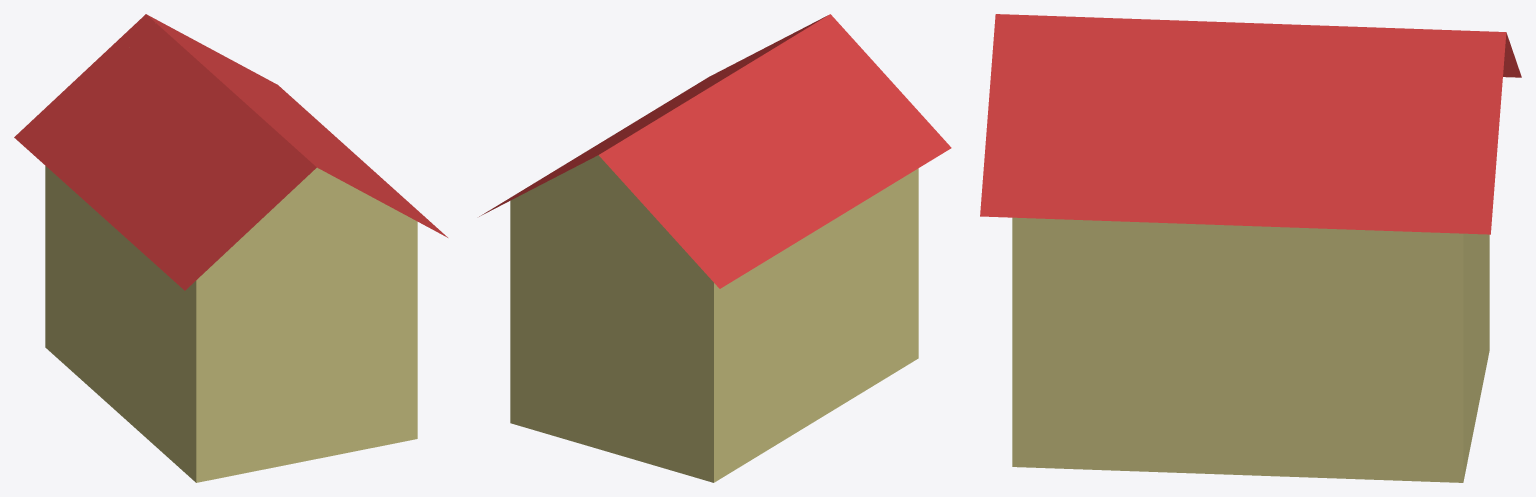
The picture shows the model from 3 angles, left to right: view 1: azimuth 30°, elevation 25°; view 2: azimuth 150°, elevation 25°; view 3: azimuth 270°, elevation 25°; orthographic projection. The views are drawn at different scales.
Visible parts, largest first — view 1: group_5, group_3; view 2: group_5, group_3; view 3: group_5, group_3, group_4.
Boxes of the visible parts, x1,y1,x2,y2 form: group_5: (45, 166, 417, 482); group_3: (14, 14, 447, 290); group_5: (510, 155, 918, 482); group_3: (479, 14, 951, 288); group_5: (1012, 217, 1489, 482); group_3: (980, 14, 1506, 234); group_4: (996, 14, 1521, 77).
Bounding box in the file's own units: 10.33 × 13.52 × 10.63.
